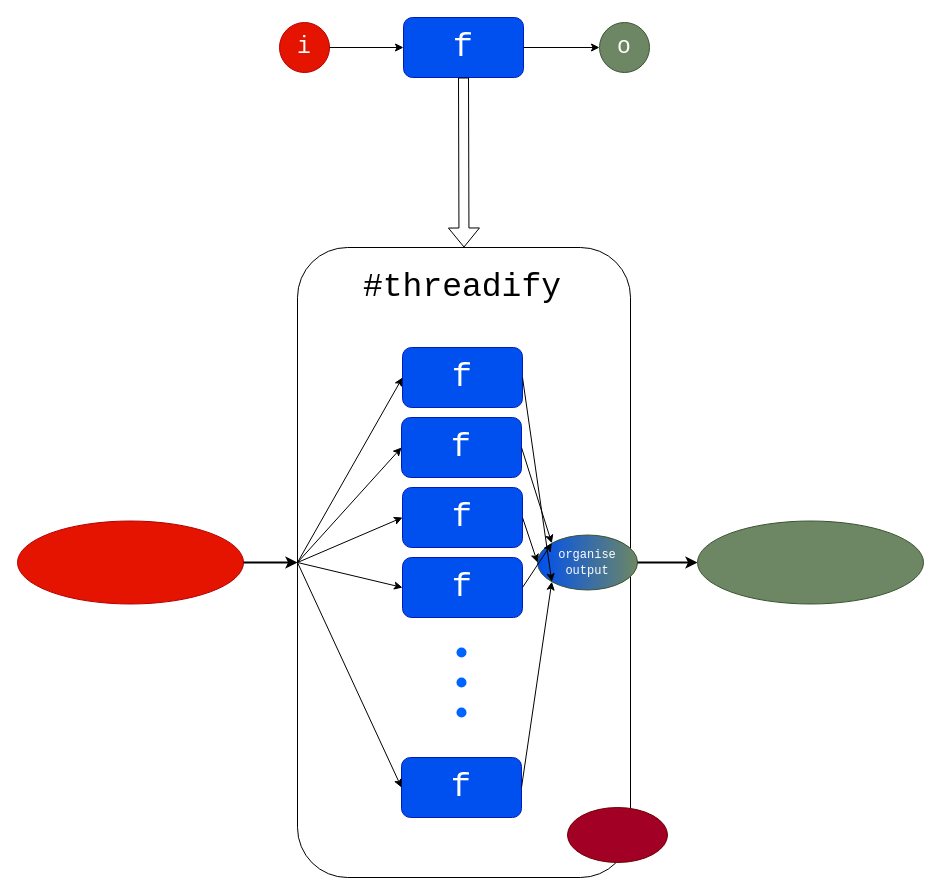
Some shapes in this 941 by 895 pixel diagram are drawn without their labels. Each missing label, with the centre of its shape:
"[i 0 , i 1 , i 2 , i 3 , ..., i n ]" belongs at pixel 130 562.
"[o 0 , o 1 , o 2 , o 3 , ..., o n ]" belongs at pixel 810 562.
"handle exceptions" belongs at pixel 617 834.
